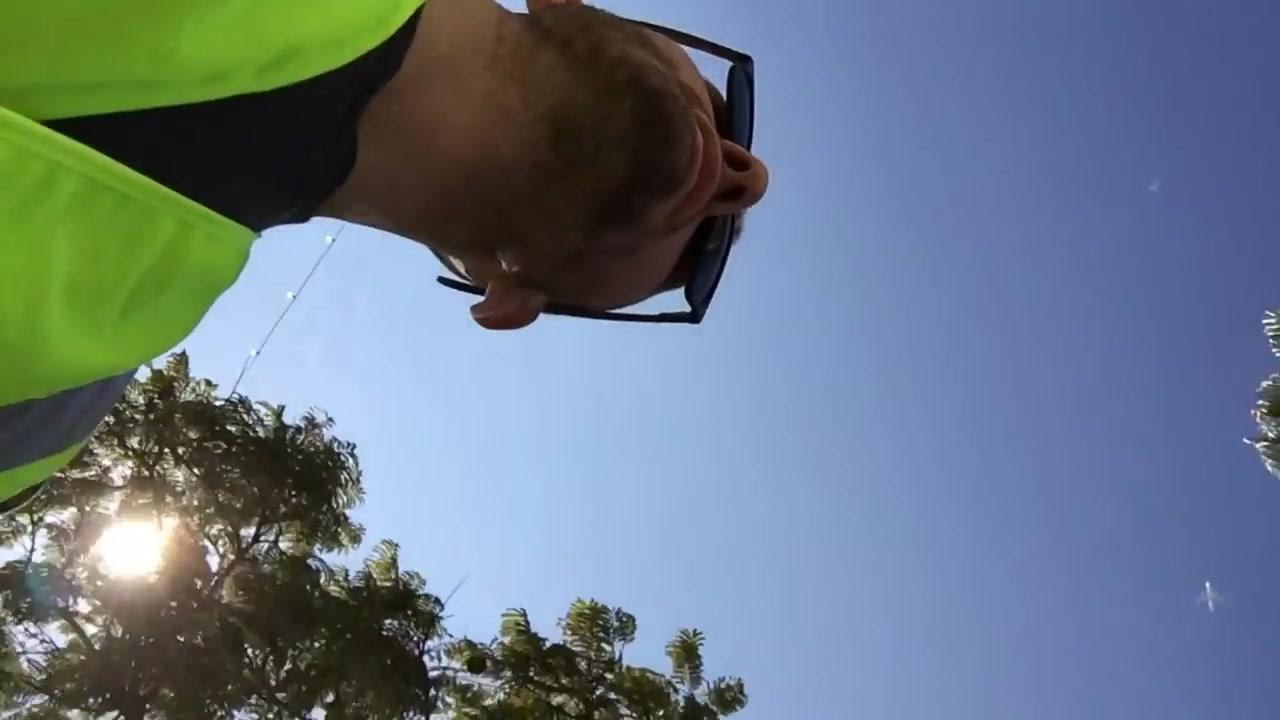vest: (0, 1, 426, 516)
